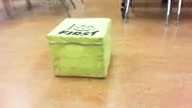cube: (46, 18, 111, 79)
